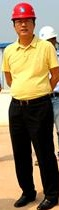boots: (12, 188, 34, 205), (0, 153, 5, 164)
hard-hat: (10, 0, 35, 18)
